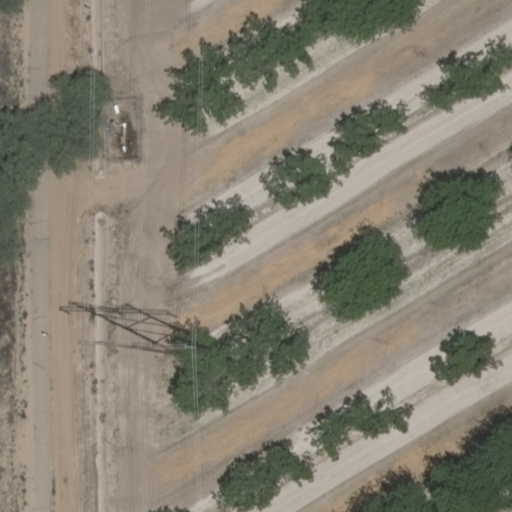DT: (80, 332, 209, 368)
